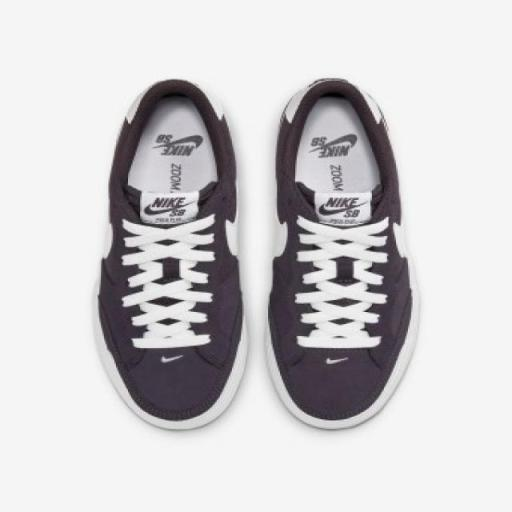Nike: (144, 206, 182, 216), (327, 196, 357, 207)
